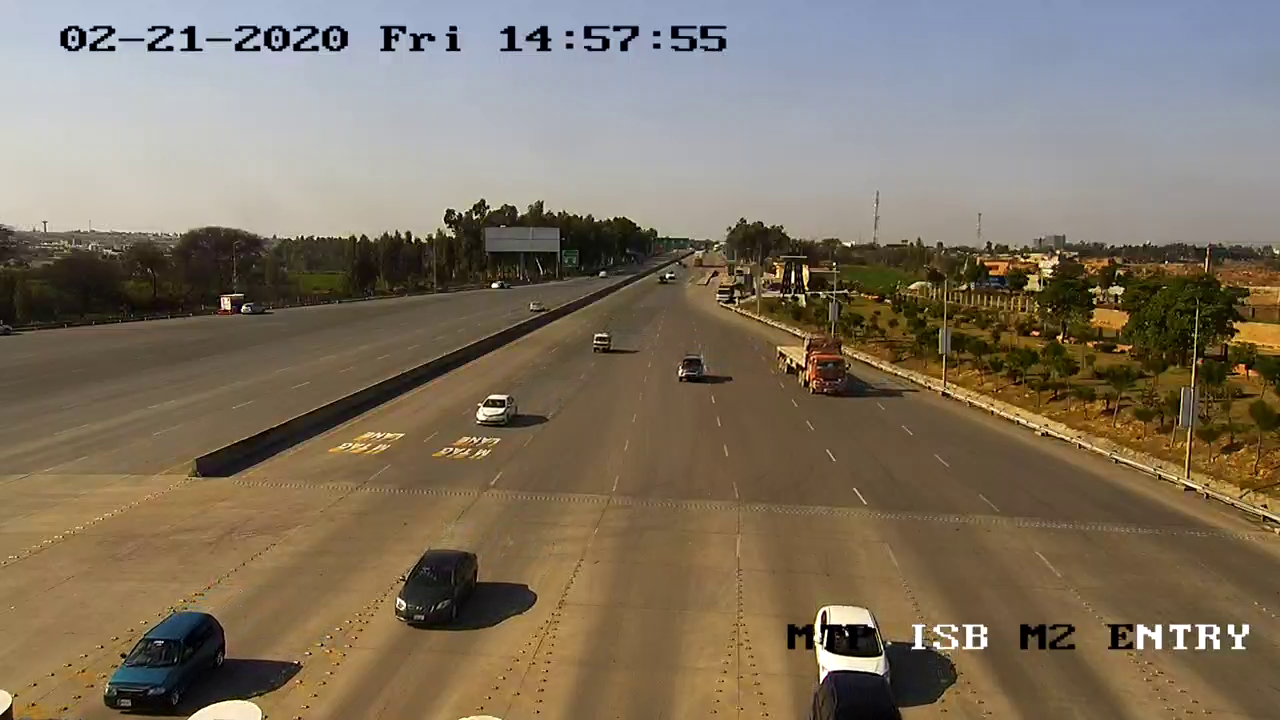f1: (89, 603, 240, 720), (797, 591, 911, 686), (380, 535, 485, 634), (468, 385, 526, 437), (674, 354, 712, 388)
f6: (765, 324, 866, 408)
